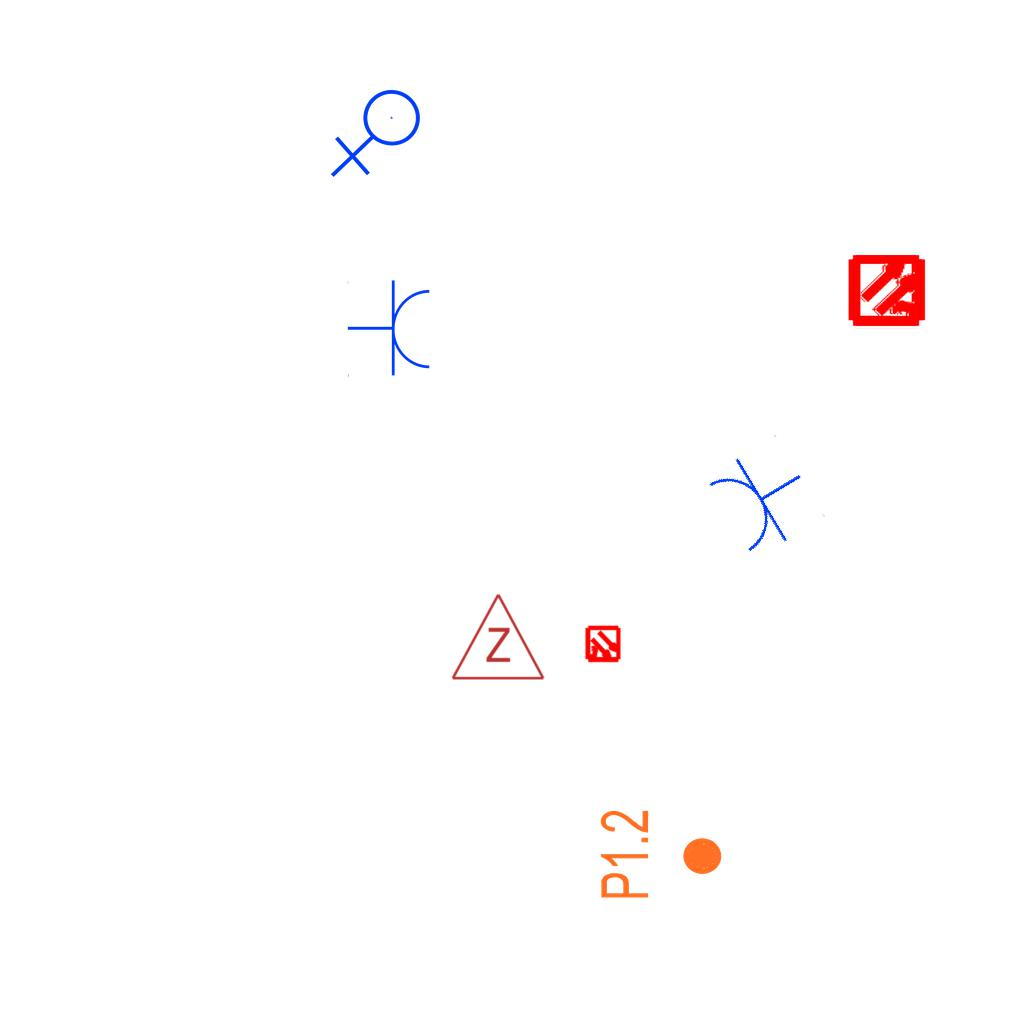Downlight_LED_Einbauleuchten_Flur: (597, 808, 725, 901)
Elektroanschluss_allgemein_230V_Geraeteanschlussdose_230V: (330, 88, 429, 182)
OT_Multisensormelder_(Kombination_RMO_WMD): (831, 234, 944, 347), (834, 234, 947, 347), (575, 617, 631, 673)
Schukosteckdose_einfach: (699, 432, 827, 563), (347, 279, 434, 379)
Zimmersignalleuchte: (448, 587, 546, 687)
